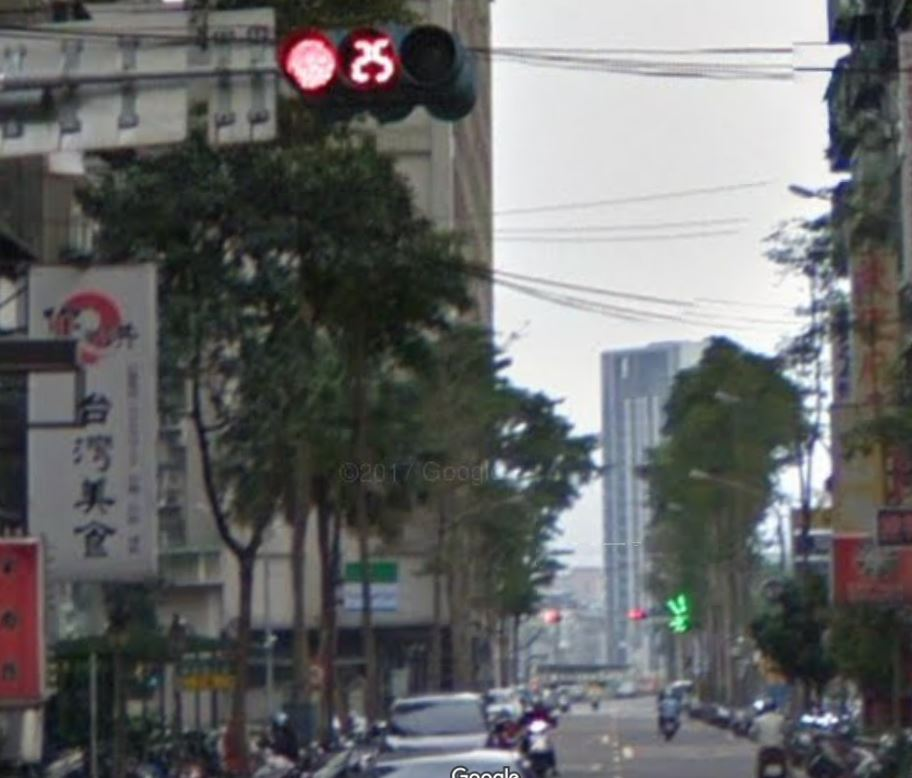Traffic_light_red: (279, 27, 463, 90)
